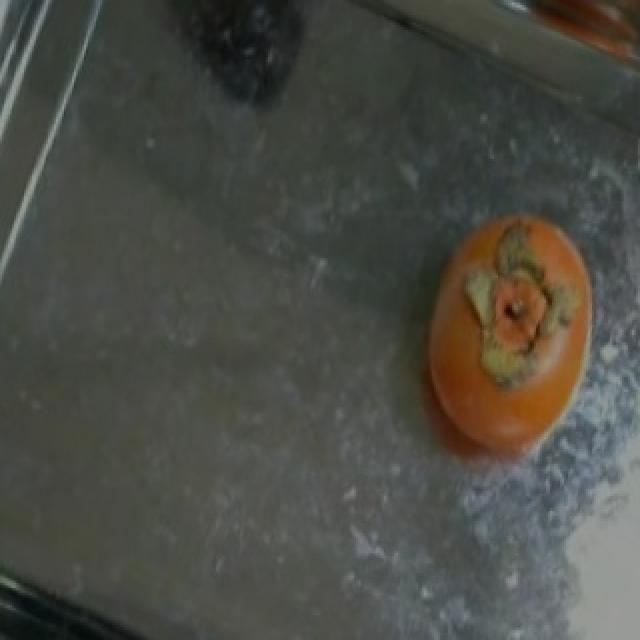Fruit: (404, 191, 620, 504), (474, 0, 640, 97)
